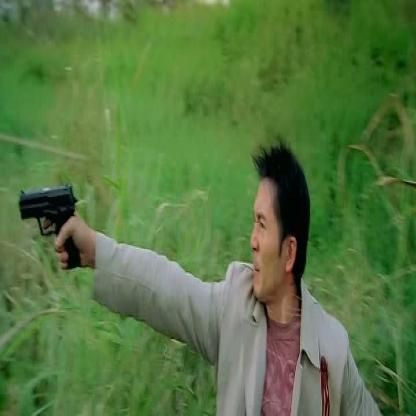gun: (15, 170, 88, 279)
